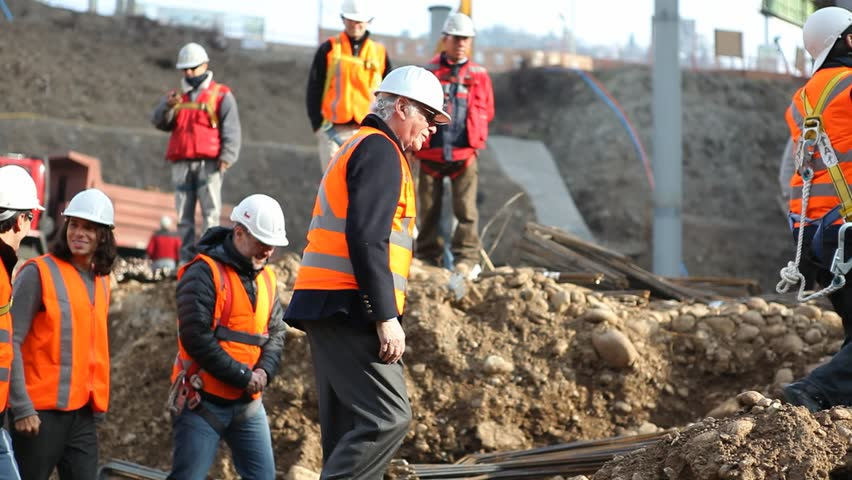With Helmet: (370, 61, 451, 155), (228, 192, 292, 275), (60, 186, 119, 268), (1, 161, 48, 257), (797, 1, 852, 78), (439, 10, 479, 66), (174, 36, 211, 84), (337, 1, 377, 39)
